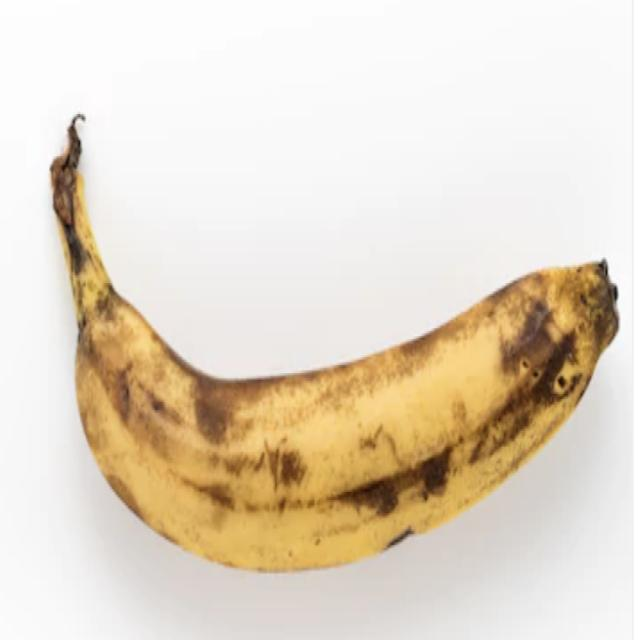rotten-banana: (48, 111, 620, 572)
